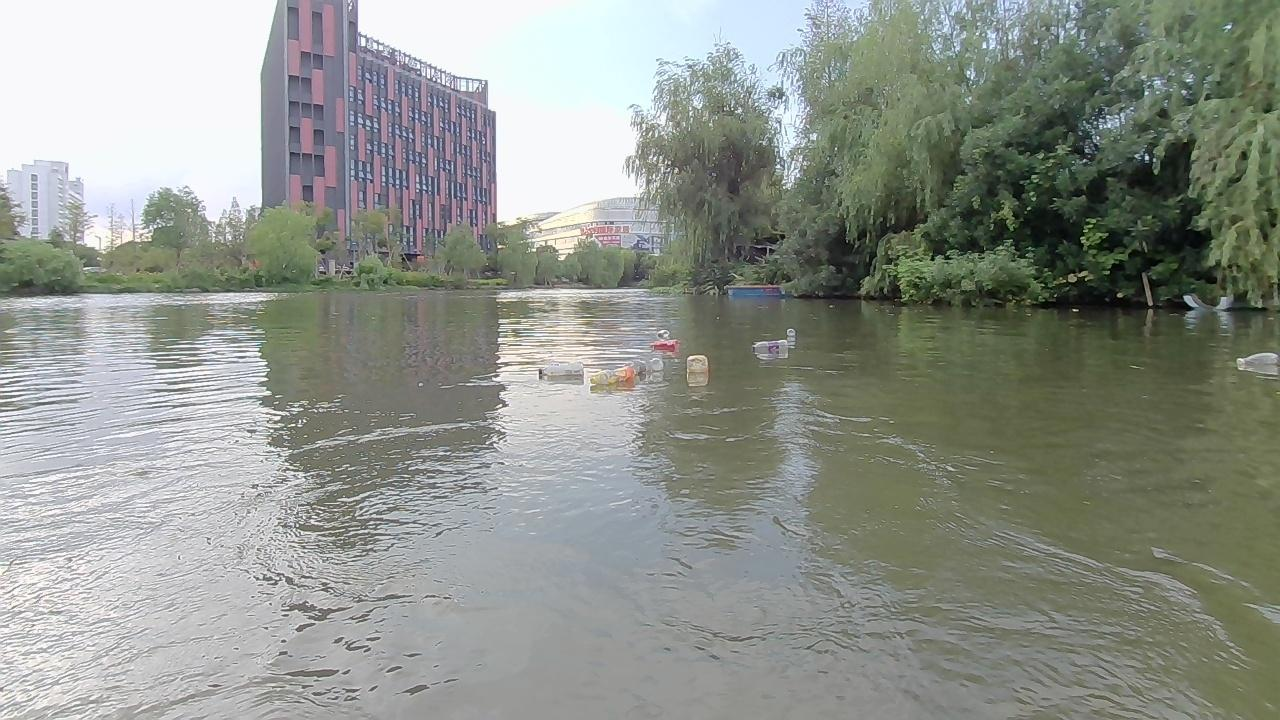bottle: (590, 361, 638, 388), (532, 359, 581, 382), (751, 334, 790, 358), (683, 352, 708, 377), (647, 340, 679, 356), (781, 324, 801, 342), (648, 353, 664, 372), (656, 325, 675, 337)
